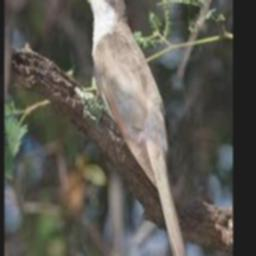Cuckoo: (70, 0, 191, 256)
